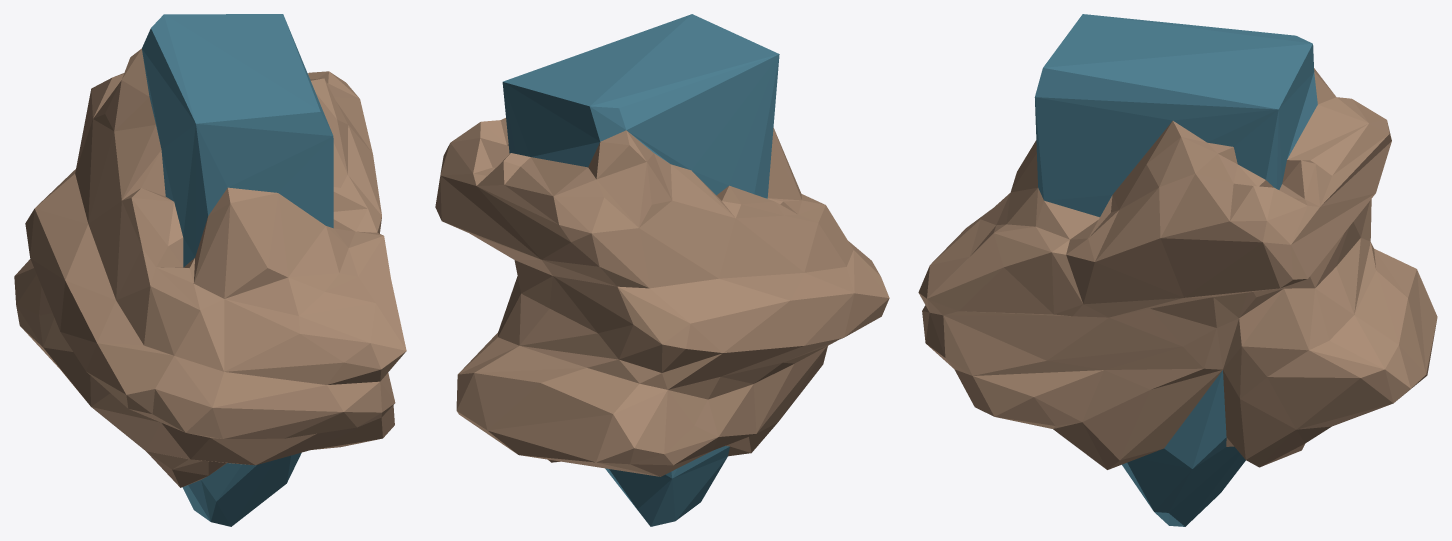
File: SM_LP_Mineral_5.fbx
3 renders of one model, left to right at view 1: azimuth 30°, elevation 25°; view 2: azimuth 150°, elevation 25°; view 3: azimuth 270°, elevation 25°, orthographic. The views are drawn at different scales.
Parts seen in each view (by area): view 1: SM_LP_Mineral_5; view 2: SM_LP_Mineral_5; view 3: SM_LP_Mineral_5.
Part boxes in pixels (<box>): SM_LP_Mineral_5: <box>14,14,406,526</box>; SM_LP_Mineral_5: <box>435,14,889,526</box>; SM_LP_Mineral_5: <box>918,14,1437,526</box>.
Size of the model in its own units: 0.7263 by 0.9532 by 0.9285.
